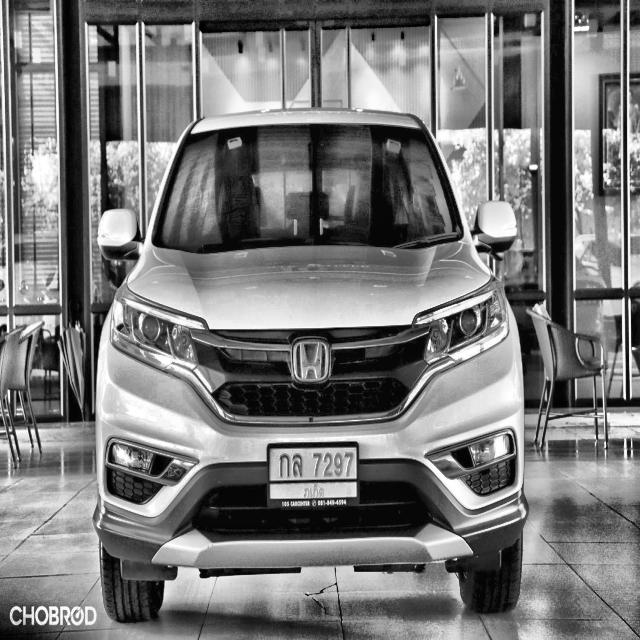license-plate: (266, 441, 360, 514)
